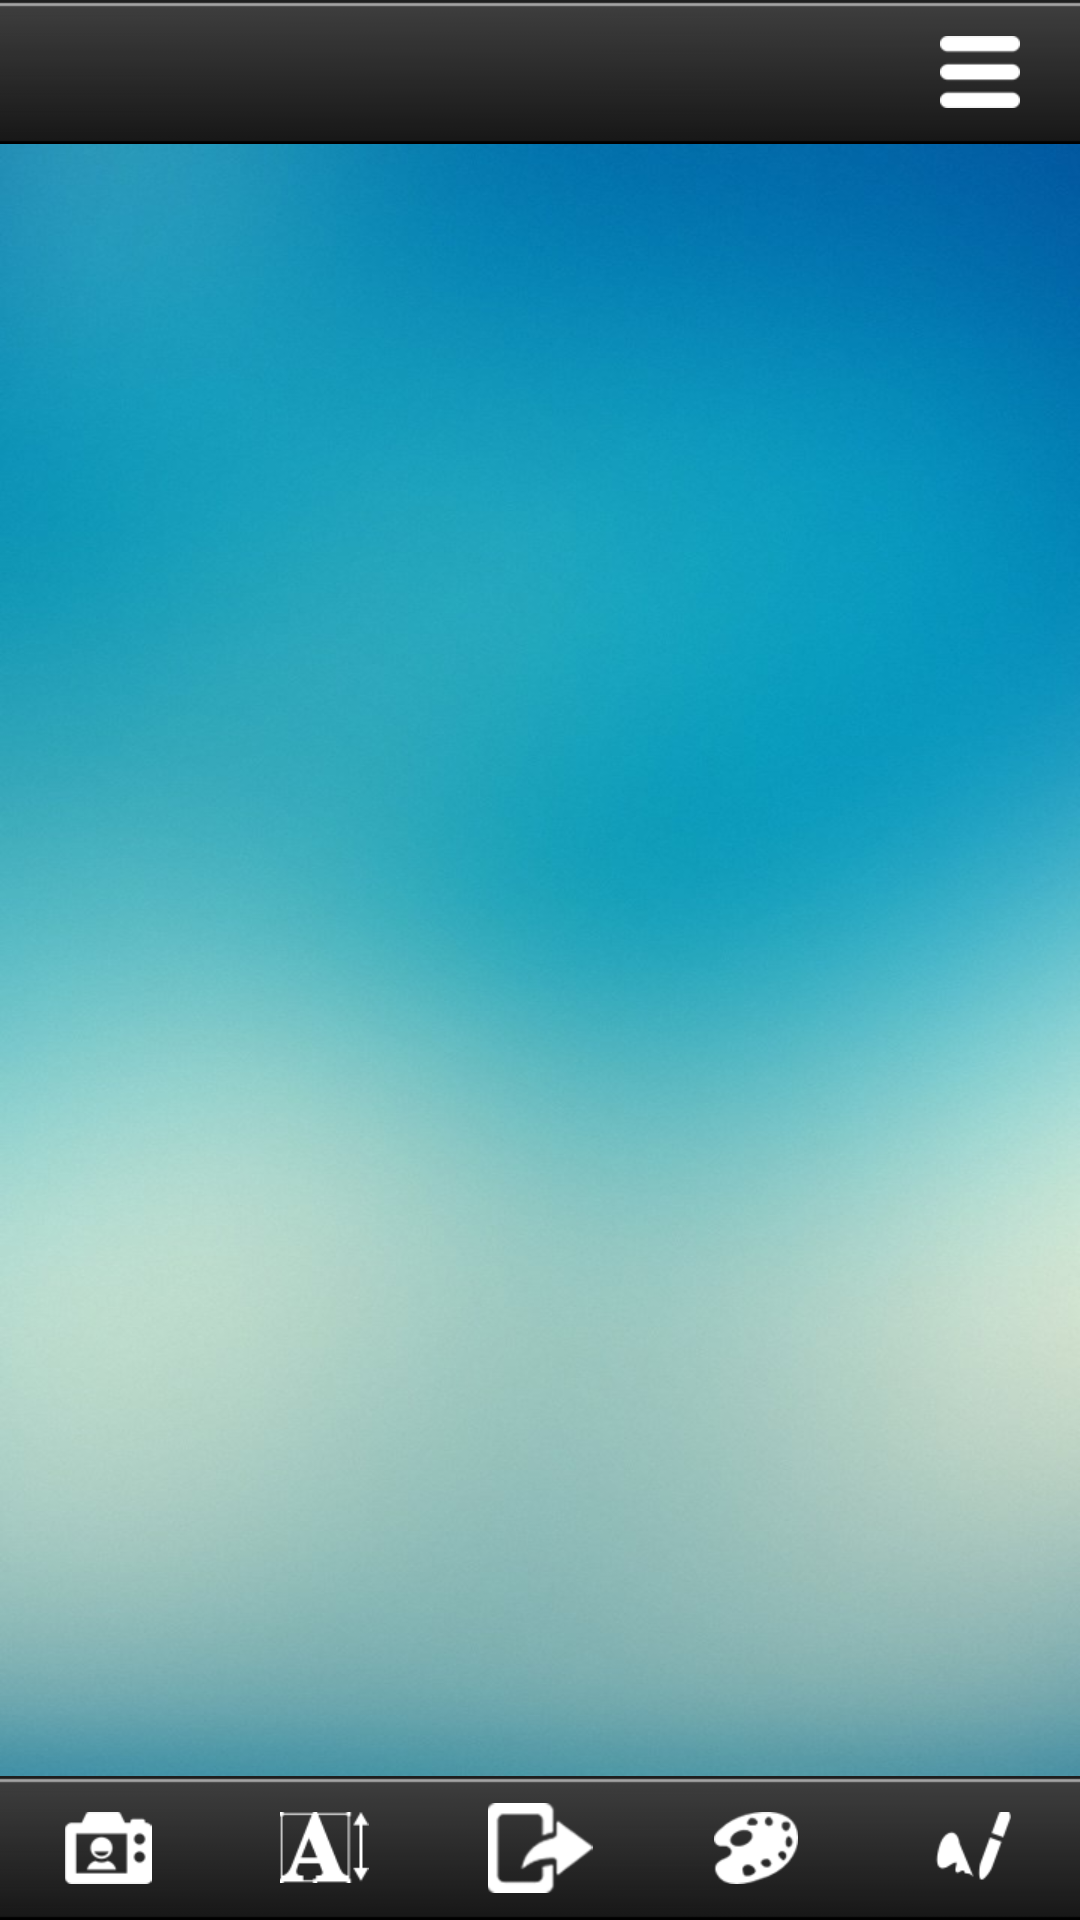

Screen size 1080px×1920px. Icon name, then its box in pixels as (x1, y1, x2, y2):
camera: (65, 1812, 152, 1884)
menu: (940, 36, 1020, 108)
text size: (280, 1812, 369, 1883)
